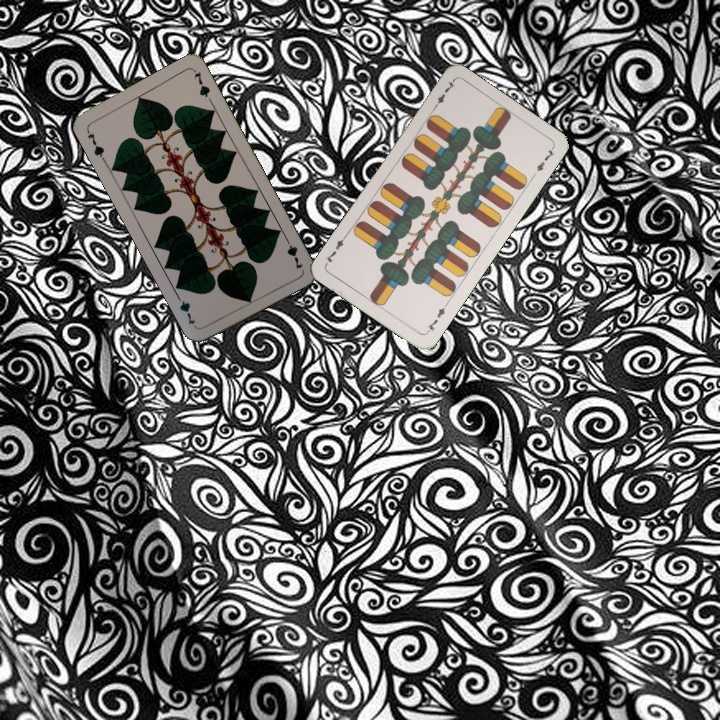E7: (429, 77, 458, 113), (422, 300, 450, 336)
G7: (281, 233, 306, 272), (83, 126, 107, 163)
